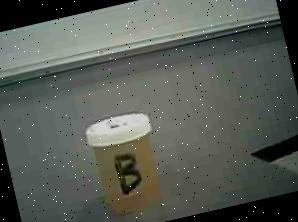Bottle B: (72, 99, 183, 222)
